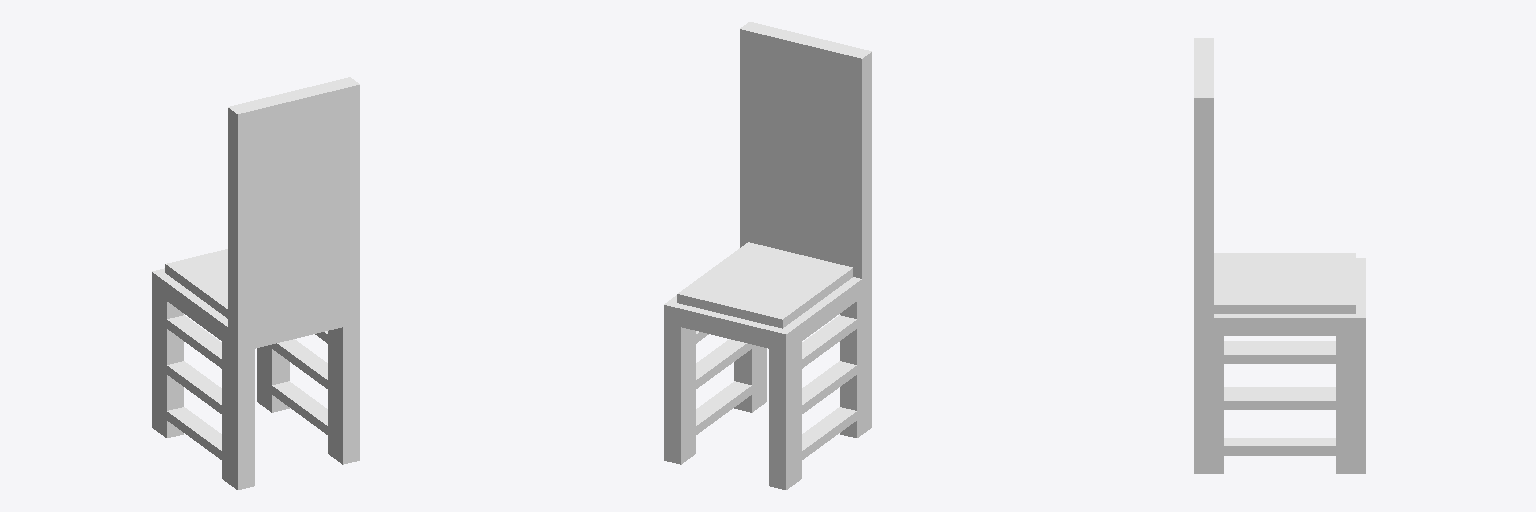
File: diningchair1.obj
The picture shows the model from 3 angles: view 1: azimuth 30°, elevation 25°; view 2: azimuth 150°, elevation 25°; view 3: azimuth 270°, elevation 25°; orthographic projection.
Parts seen in each view (by area): view 1: object 1; view 2: object 1; view 3: object 1.
Boxes of the visible parts, <box> form: object 1: <box>152,77,359,489</box>; object 1: <box>664,22,871,489</box>; object 1: <box>1194,38,1365,473</box>.
Bounding box in the file's own units: 1.4 × 4.1 × 1.7.